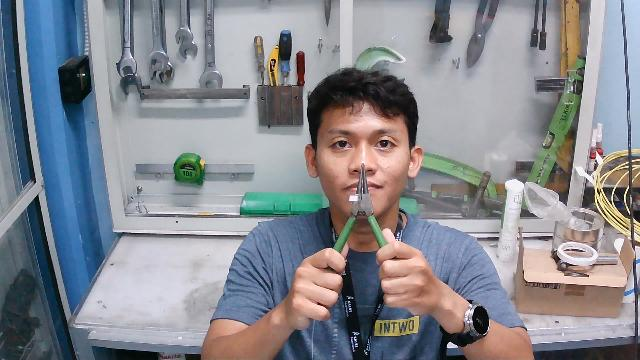tang_cucut_lancip_2: (308, 161, 407, 278)
